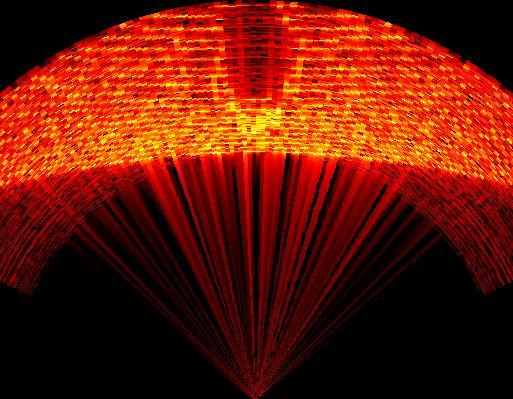box_crate: (218, 2, 280, 109)
